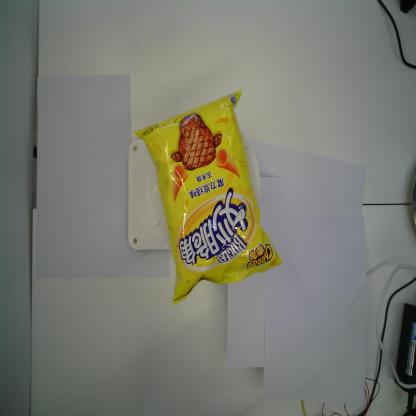Puffed Food: (132, 88, 284, 310)
